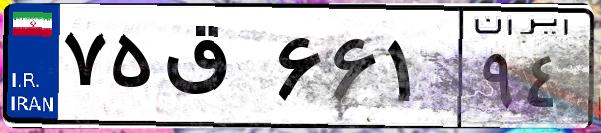1: (385, 28, 445, 110)
4: (525, 38, 570, 115)
5: (110, 28, 158, 98)
6: (270, 28, 330, 110), (330, 28, 385, 110)
7: (57, 26, 110, 100)
9: (475, 38, 525, 113)
ق: (158, 20, 270, 120)
